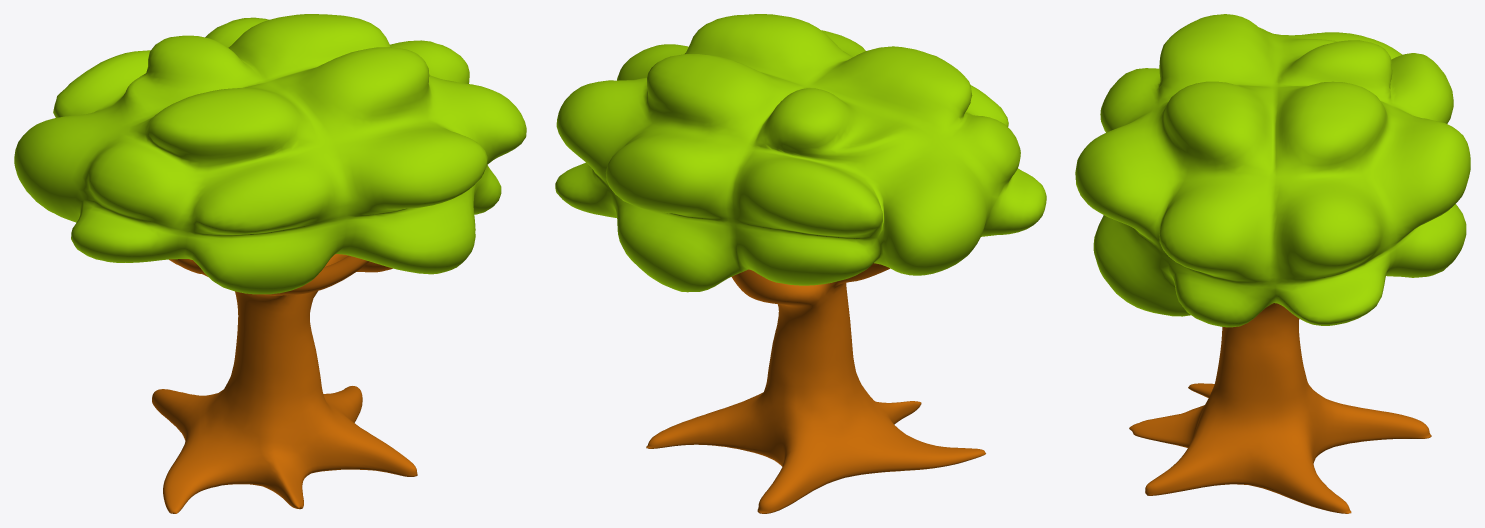
File: tree.glb
The picture shows the model from 3 angles, left to right: view 1: azimuth 30°, elevation 25°; view 2: azimuth 150°, elevation 25°; view 3: azimuth 270°, elevation 25°; orthographic projection.
Parts seen in each view (by area): view 1: Leaf, Bark; view 2: Leaf, Bark; view 3: Leaf, Bark.
Boxes of the visible parts, x1=… form: Leaf: x1=14, y1=14, x2=526, y2=294; Bark: x1=152, y1=254, x2=417, y2=513; Leaf: x1=555, y1=14, x2=1046, y2=292; Bark: x1=646, y1=263, x2=985, y2=513; Leaf: x1=1075, y1=14, x2=1470, y2=327; Bark: x1=1129, y1=303, x2=1431, y2=513.
Size of the model in its own units: 3.59 by 3.12 by 2.83.
